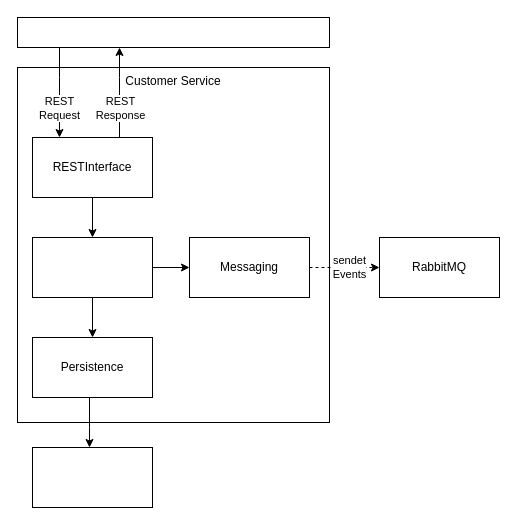
This 517x525 diagram has some shape labels left out. The centre of each missing label's shape, as x and y in pixels:
Application: (x=92, y=267)
Customer DB (Maria DB): (x=92, y=477)
UI Service: (x=173, y=32)
